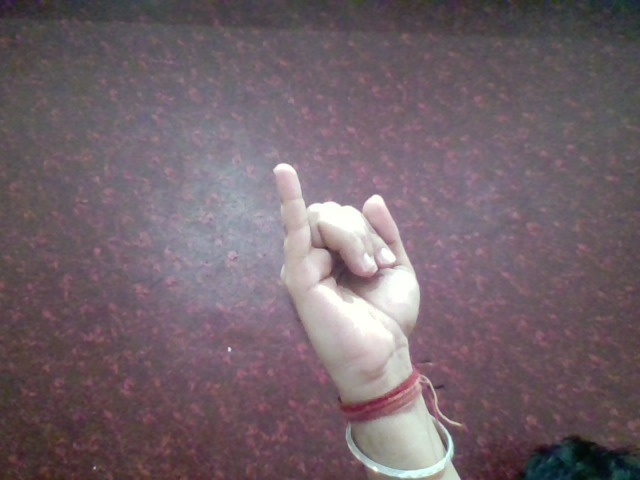j: (256, 156, 439, 373)
